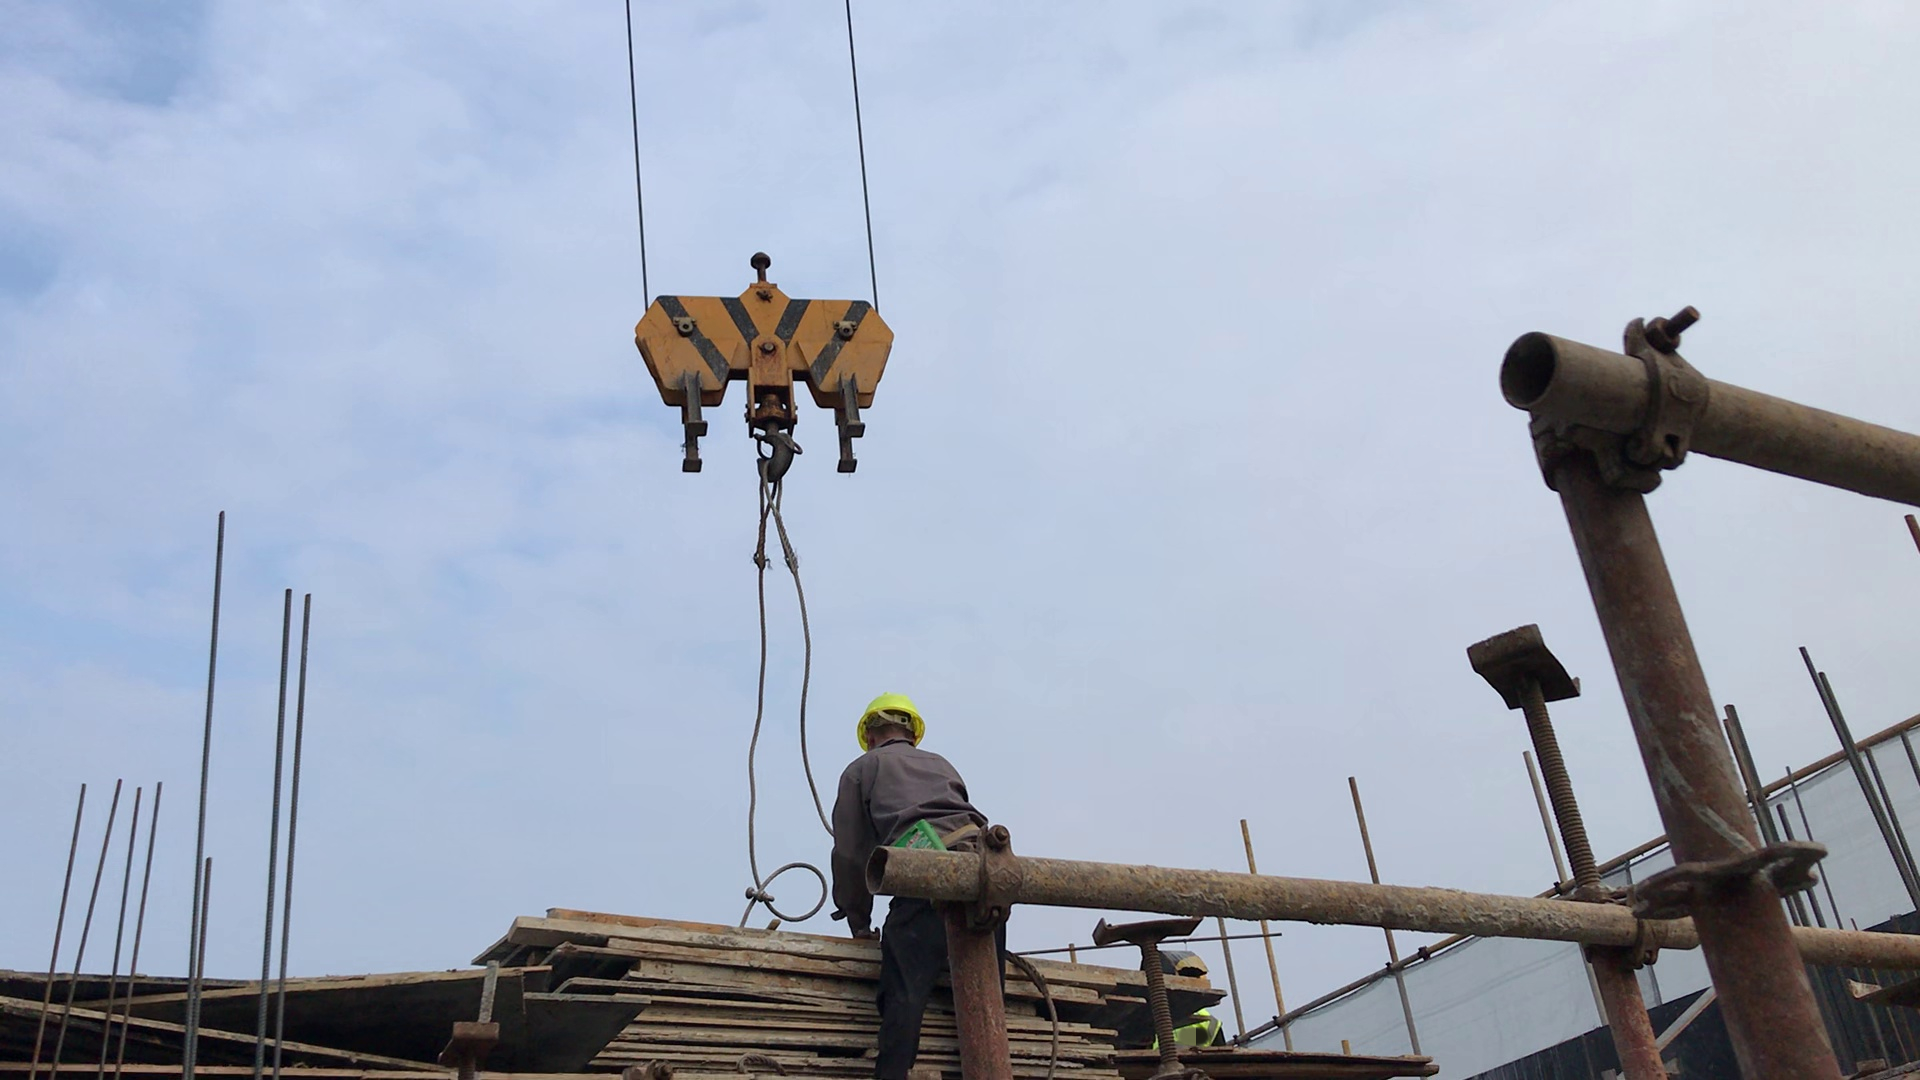board: (467, 905, 870, 1080)
helmet: (853, 694, 929, 750)
hook: (630, 246, 891, 486)
person: (830, 695, 1011, 1080)
